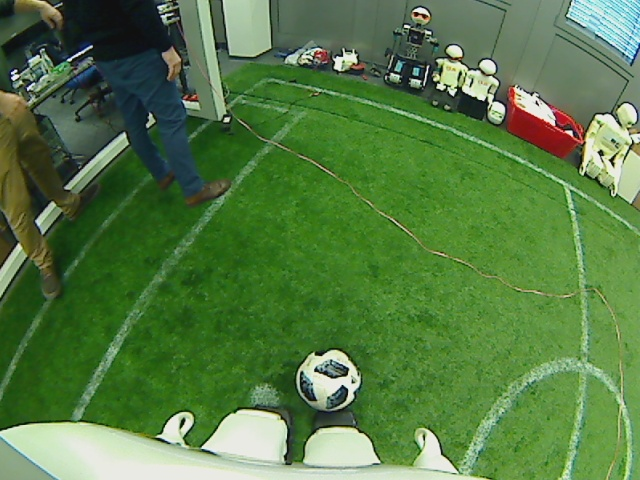ball: (292, 348, 361, 412)
